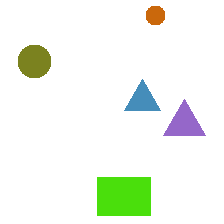circle: (18, 45, 50, 77), (146, 6, 164, 24)
rectangle: (97, 177, 150, 215)
triangle: (163, 99, 205, 135), (124, 79, 160, 110)
